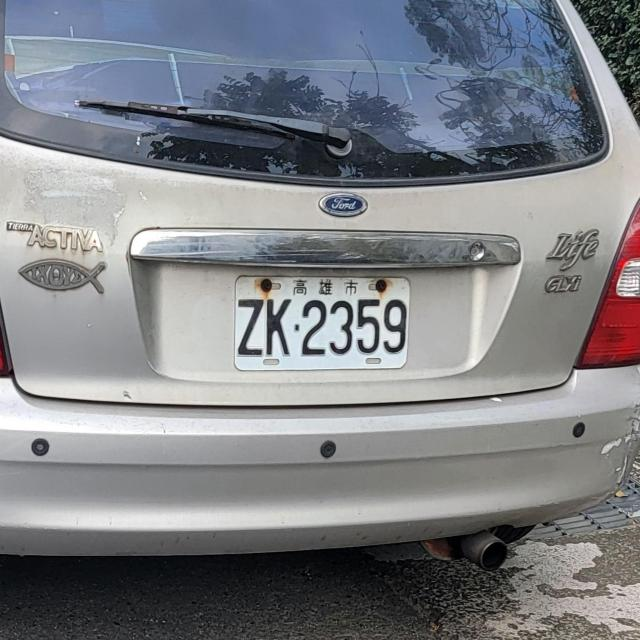W: (231, 268, 417, 375)
